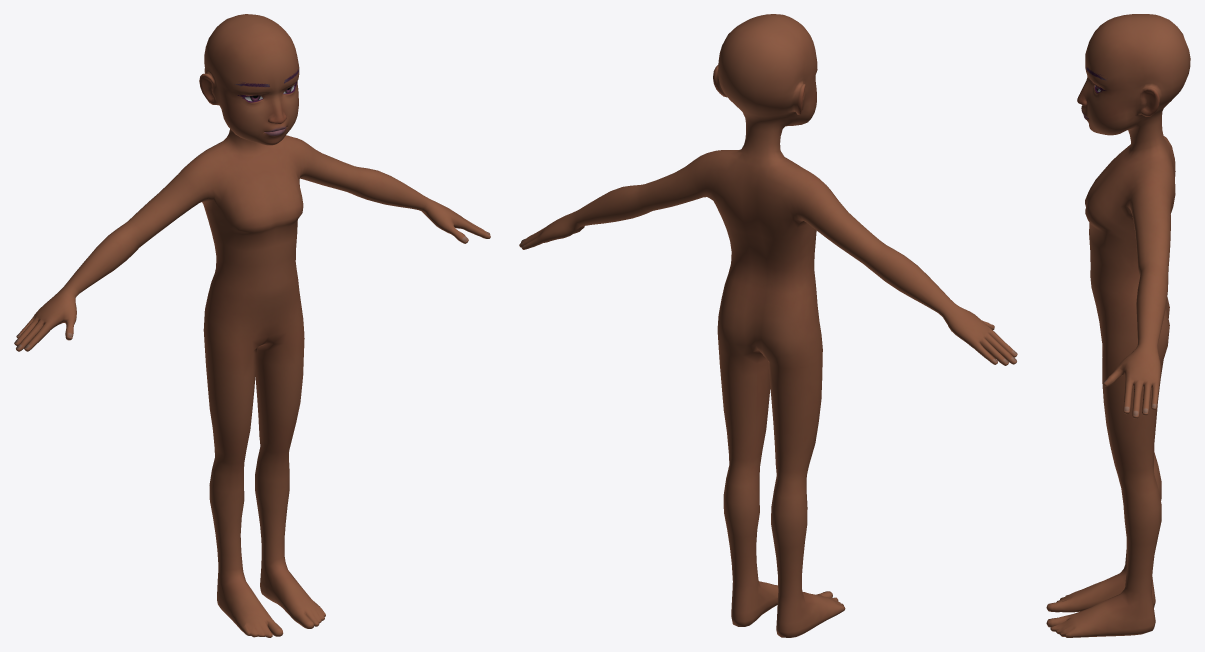
Rendered from frame_0067.glb.
3 renders of one model, left to right at view 1: azimuth 30°, elevation 25°; view 2: azimuth 150°, elevation 25°; view 3: azimuth 270°, elevation 25°, orthographic. The views are drawn at different scales.
Visible parts, largest first — view 1: frame_0067_head_geo; view 2: frame_0067_head_geo; view 3: frame_0067_head_geo.
Part boxes in pixels (<box>): frame_0067_head_geo: <box>14,14,490,637</box>; frame_0067_head_geo: <box>519,14,1017,637</box>; frame_0067_head_geo: <box>1046,14,1190,637</box>.
Size of the model in its own units: 1.28 by 1.5 by 0.3253.
3 materials, 3 textured.
